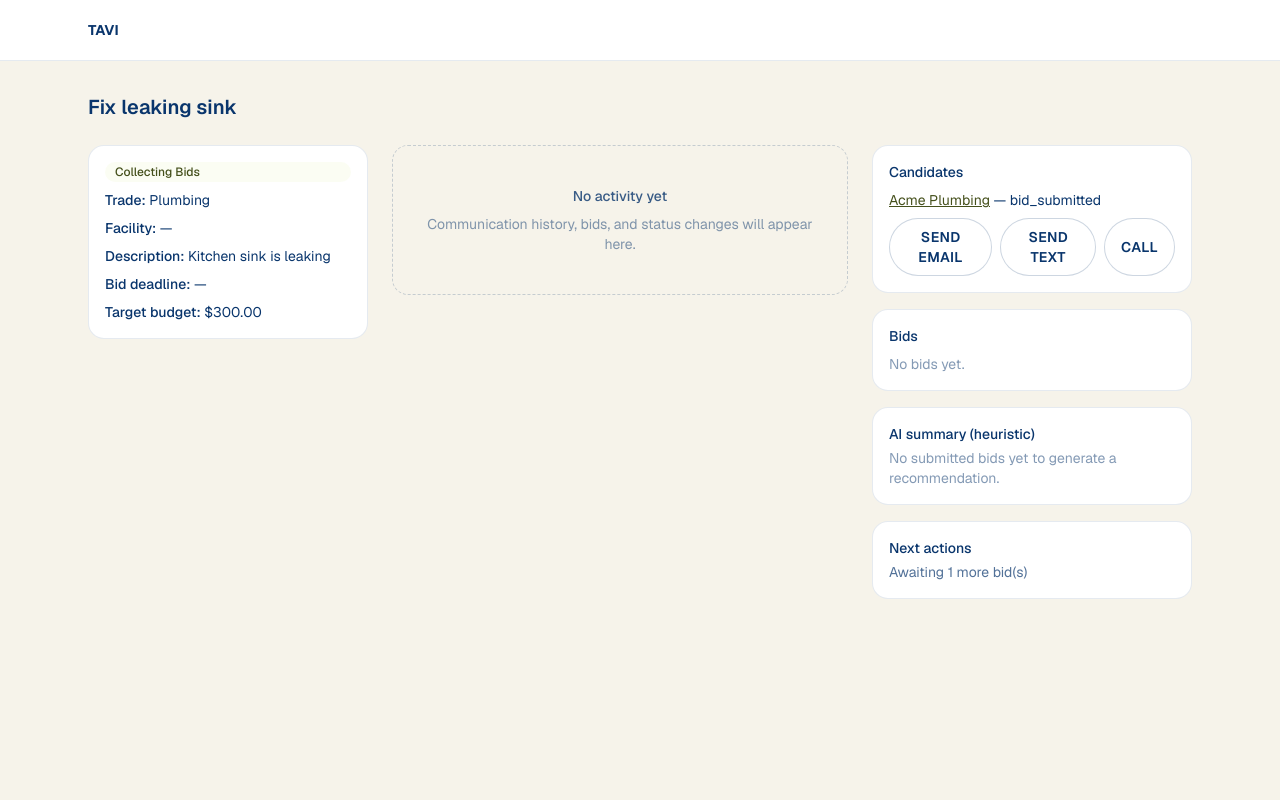
Scenario: WorkOrderReviewView › sends a text message to a candidate and renders the resulting communication event
Expected: the heading "Fix leaking sink" is shown, top-left (88, 94), bottom-right (237, 120)
Click the button "Send text" at point(1048, 247), box top-left (1000, 218), bottom-right (1096, 276)
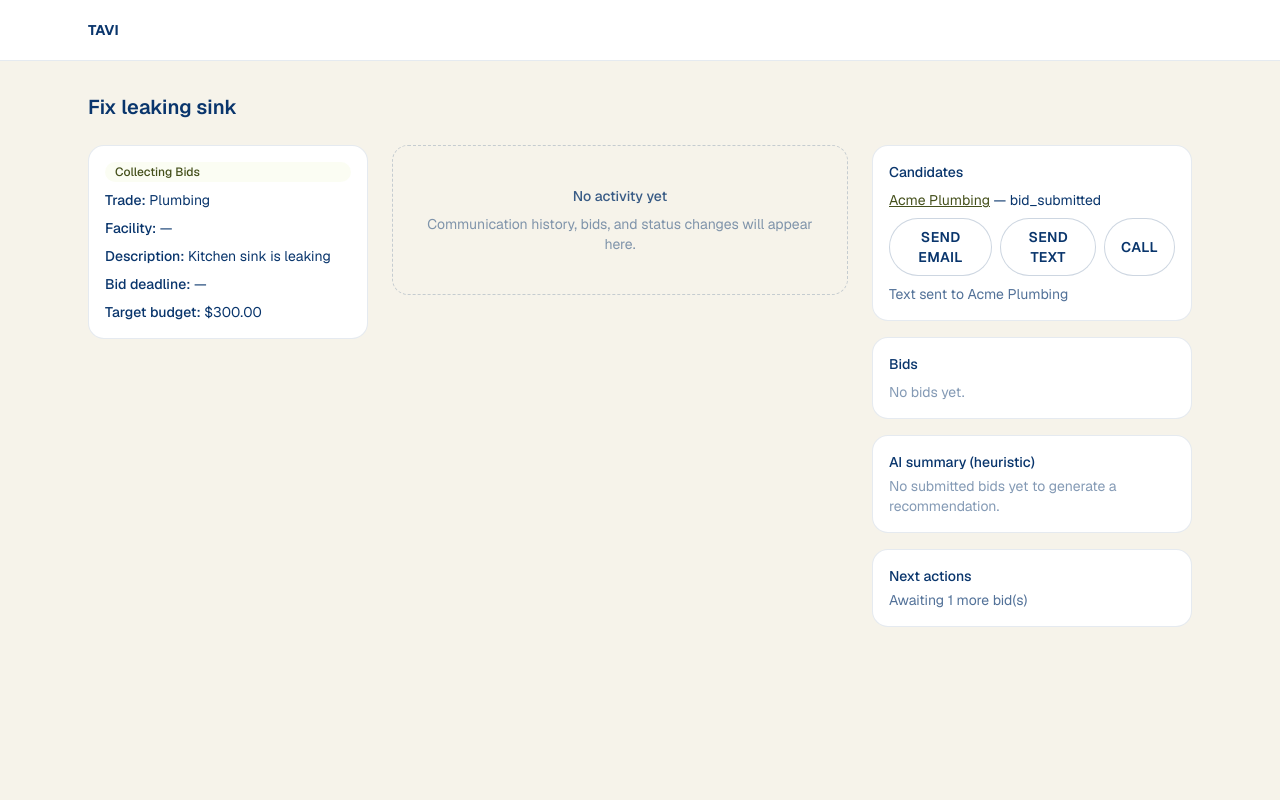
Expected: the text "Text sent to Acme Plumbing" is shown, top-left (889, 285), bottom-right (1068, 303)
